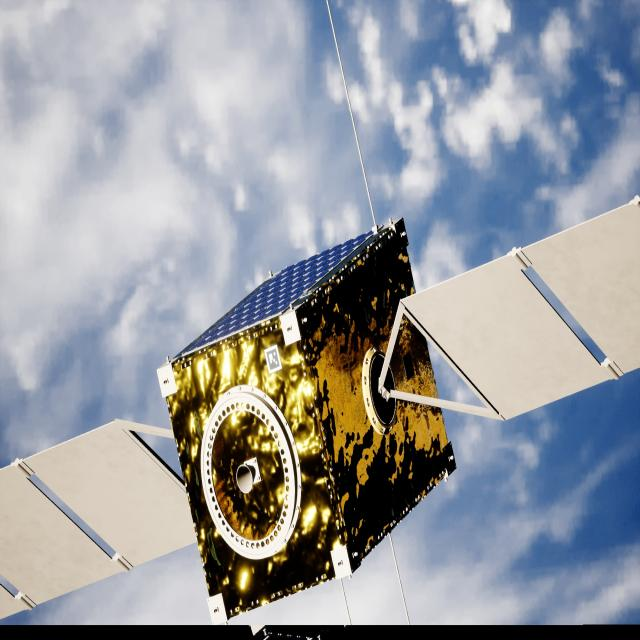medium_debris: (0, 196, 640, 619)
